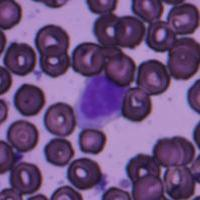L: (73, 73, 128, 130)
